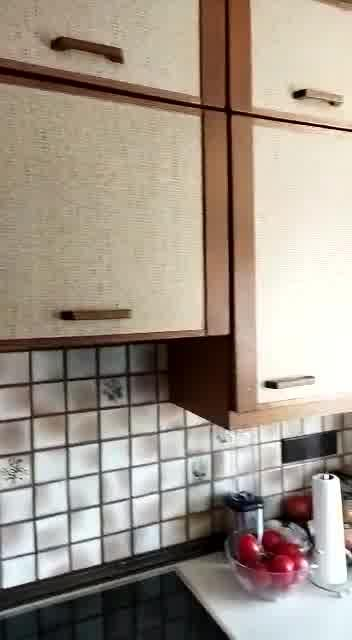cabinet_door: (1, 108, 225, 341), (233, 123, 349, 407), (1, 0, 224, 101), (228, 0, 350, 118)
handle: (48, 30, 127, 68), (55, 300, 139, 326), (288, 78, 349, 111), (260, 367, 321, 397)
